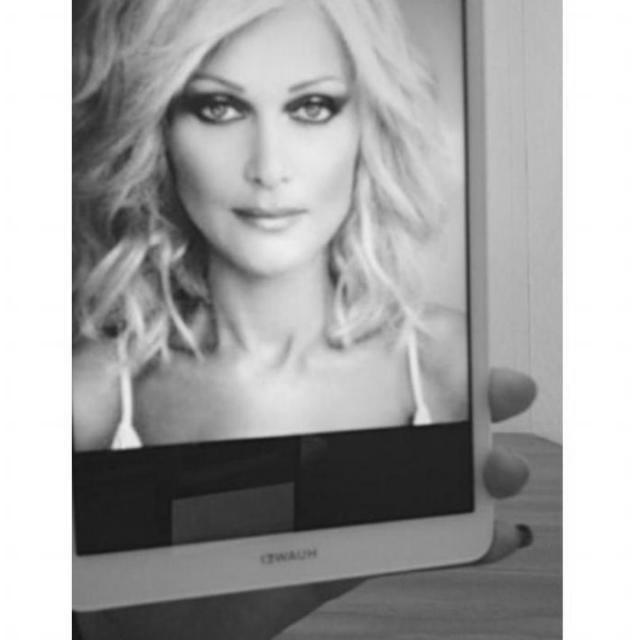fake: (74, 0, 502, 620)
